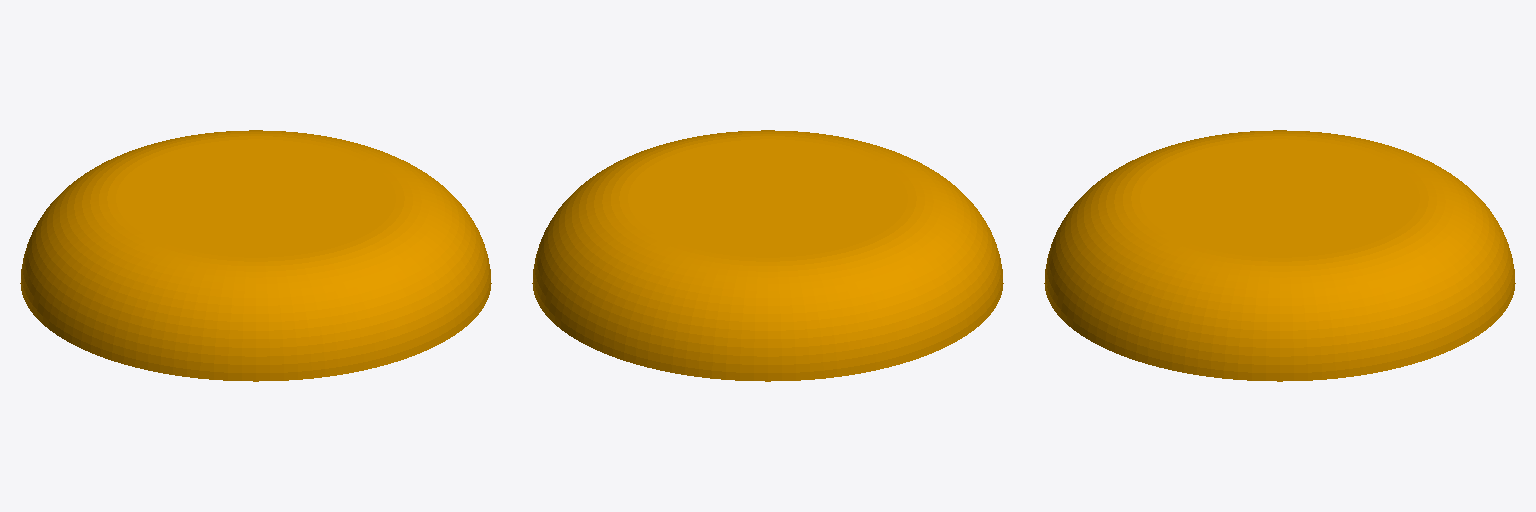
robot.urdf — block:
<?xml version="1.0"?>
<robot name="block">

<link name="bun_link">

  <collision>
    <origin xyz="0 0 0" rpy="0 0 0"/>
    <geometry>
      <!-- <mesh filename="package://ur_description/meshes/Bun_v1.stl" scale="0.003 0.003 0.003"/> -->
      <box size="0.075 0.075 0.02" />
    </geometry>
  </collision>

  <visual>
    <origin xyz="0 0 0" rpy="0 0 0"/>
    <geometry>
      <mesh filename="package://ur_description/meshes/Bun_v1.stl" scale="0.003 0.003 0.003"/>
    </geometry>
  </visual>

  <inertial>
   <origin xyz="0 0 0" rpy="0 0 0"/>
   <mass value="0.0225" />
   <inertia
      ixx="0.0" ixy="0.0"  ixz="0.0"
      iyy="0.0" iyz="0.0"  izz="0.0" />
  </inertial>
</link>

<gazebo reference="bun_link">
  <static>1</static>
  <visual>
    <material>
      <ambient>0.82 0.70 0.54 1.0</ambient>
      <diffuse>0.82 0.70 0.54 1.0</diffuse>
      <specular>0 0 0 1.0</specular>
      <emissive>0 0 0 1.0</emissive>
    </material>
  </visual>
  <mu1>100</mu1>
  <mu2>100</mu2>
  <kp>2147483647</kp>
  <kd>1</kd>
  <maxVel>0</maxVel>
  <minDepth>0.001</minDepth>
</gazebo>

</robot>

--- What the picture shows (computed from the rendered views, not written in the file) ---
Views: 3 orthographic renders of the robot side by side, from view 1: azimuth 30°, elevation 25°; view 2: azimuth 150°, elevation 25°; view 3: azimuth 270°, elevation 25°.
Model block with 1 links and 0 joints (none), rooted at bun_link, posed every joint at zero.
Visible links, largest first — view 1: bun_link; view 2: bun_link; view 3: bun_link.
Boxes of the visible links, x1,y1,x2,y2 form: bun_link: (20, 130, 491, 381); bun_link: (532, 130, 1003, 381); bun_link: (1044, 130, 1515, 381).
Size in the robot's own frame: 0.1333 by 0.1333 by 0.0261 metres.
1 mesh visuals loaded from 1 distinct referenced files (1 binary STL).
